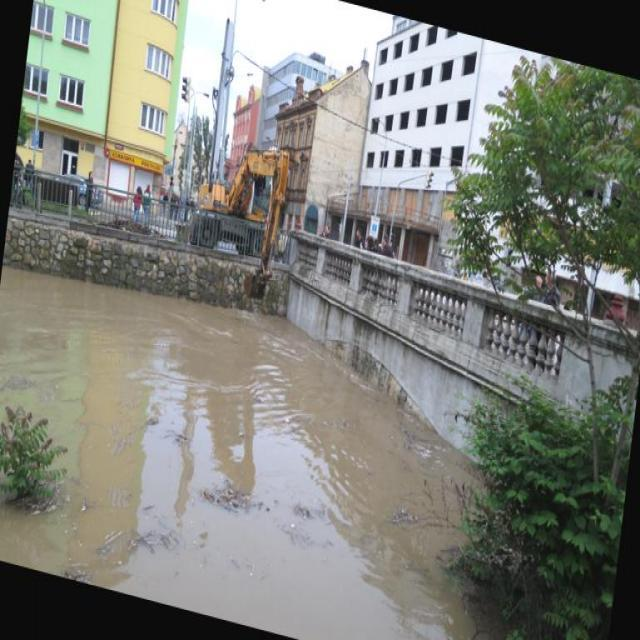flood: (0, 238, 477, 639)
